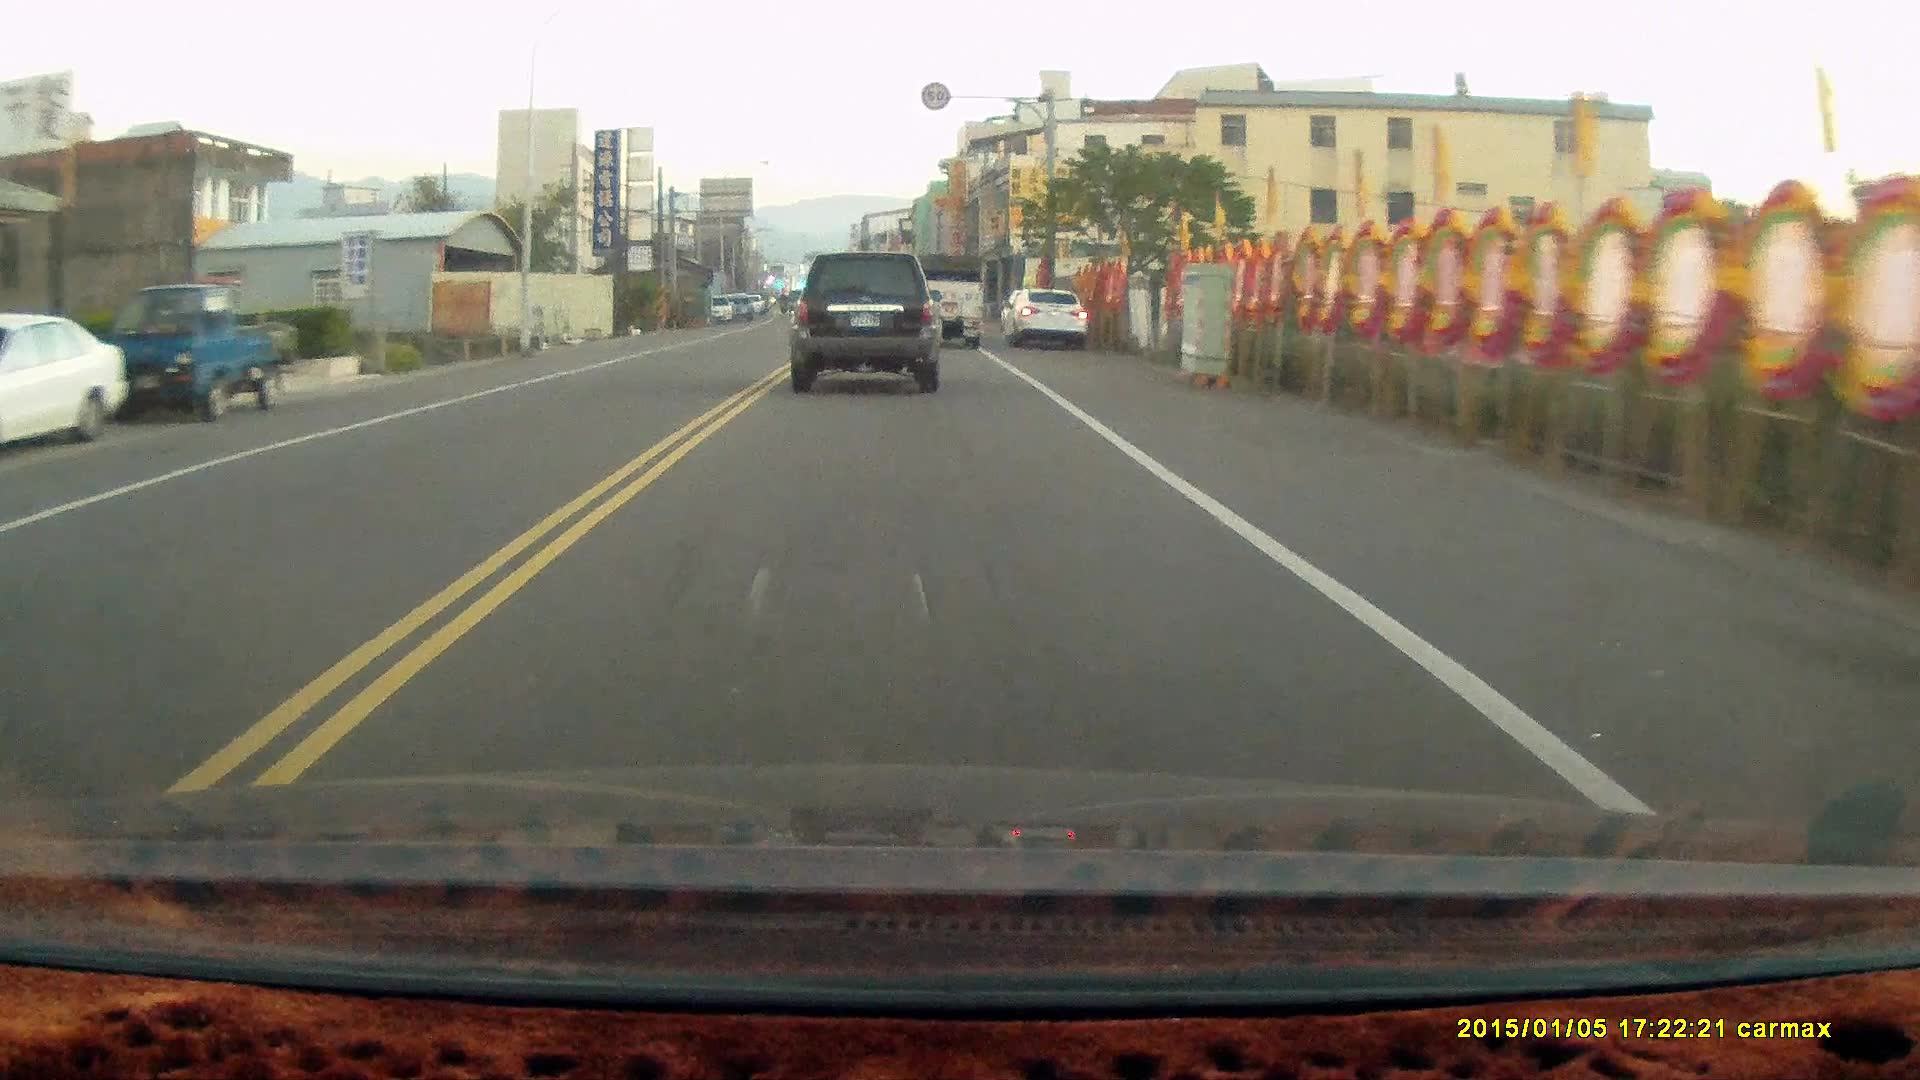vehicle: (105, 284, 293, 427), (793, 258, 942, 401), (1, 311, 127, 448), (913, 252, 989, 349), (1007, 286, 1091, 349)
